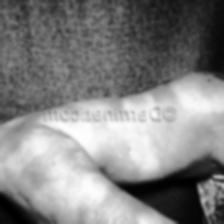Potentially Malignant Skin Tumors: (177, 76, 224, 115), (124, 137, 160, 178)
